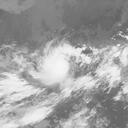cyclone: (30, 42, 80, 86)
